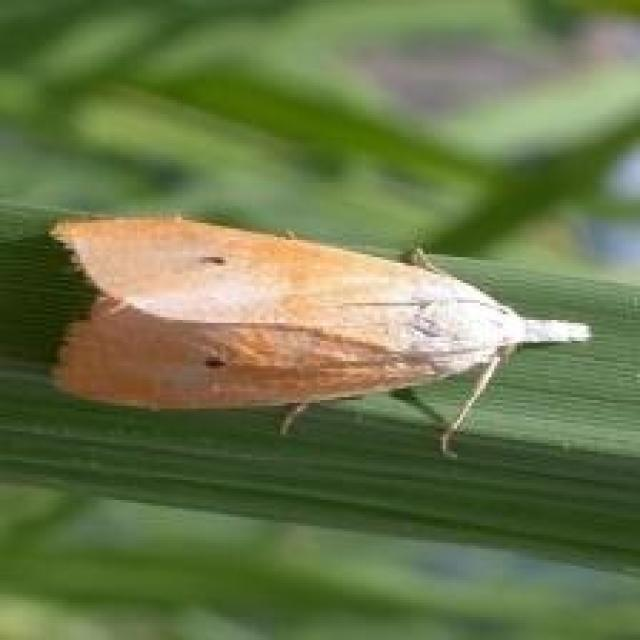yellow-stem-borer: (43, 149, 600, 481)
